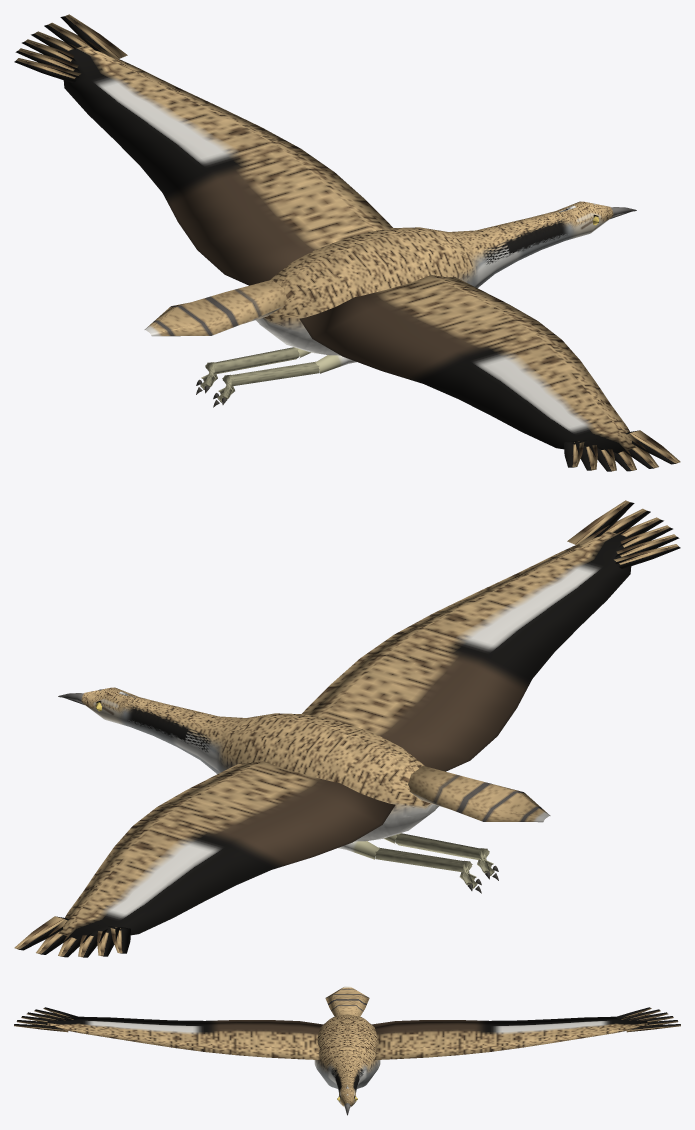
File: houbara_flight_lod1.glb
The picture shows the model from 3 angles, top to bottom: view 1: azimuth 30°, elevation 25°; view 2: azimuth 150°, elevation 25°; view 3: azimuth 270°, elevation 25°; orthographic projection. The views are drawn at different scales.
Parts seen in each view (by area): view 1: houbara_body; view 2: houbara_body; view 3: houbara_body.
Part boxes in pixels (bbox=[...]): houbara_body: bbox=[14, 14, 680, 471]; houbara_body: bbox=[14, 500, 680, 957]; houbara_body: bbox=[14, 986, 680, 1115].
Bounding box in the file's own units: 0.655 × 0.1559 × 1.42.
1 material, 1 textured.
